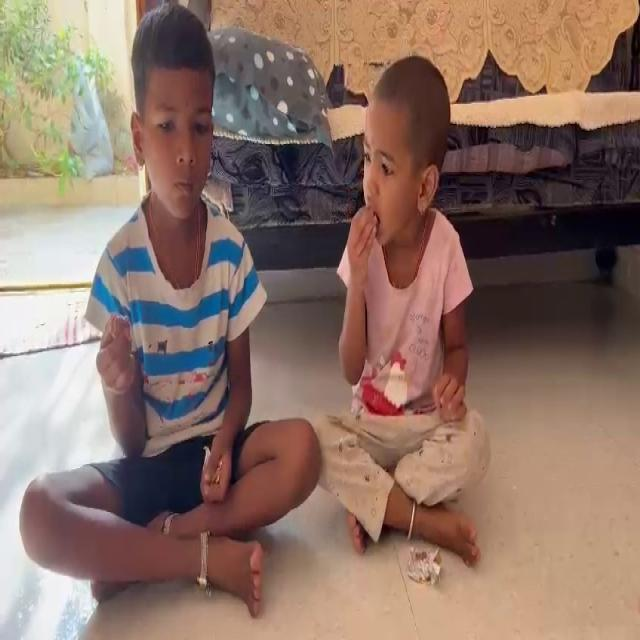child: (41, 9, 277, 593), (318, 44, 504, 585)
